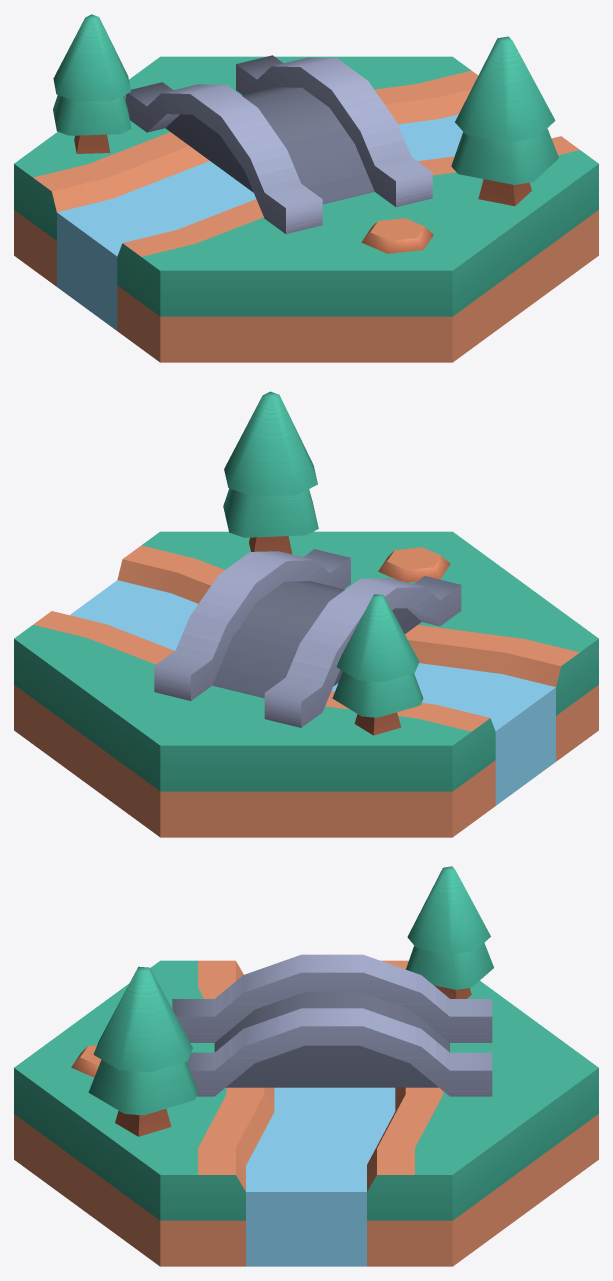
File: bridge.glb
3 views of the same model, one above another, from view 1: azimuth 30°, elevation 25°; view 2: azimuth 150°, elevation 25°; view 3: azimuth 270°, elevation 25° (orthographic).
Parts seen in each view (by area): view 1: bridge; view 2: bridge; view 3: bridge.
Boxes of the visible parts, bbox=[...] form: bridge: bbox=[14, 14, 598, 362]; bridge: bbox=[14, 391, 598, 837]; bridge: bbox=[14, 866, 598, 1266].
Size of the model in its own units: 1 by 0.5382 by 1.15.
1 material, 1 textured.
